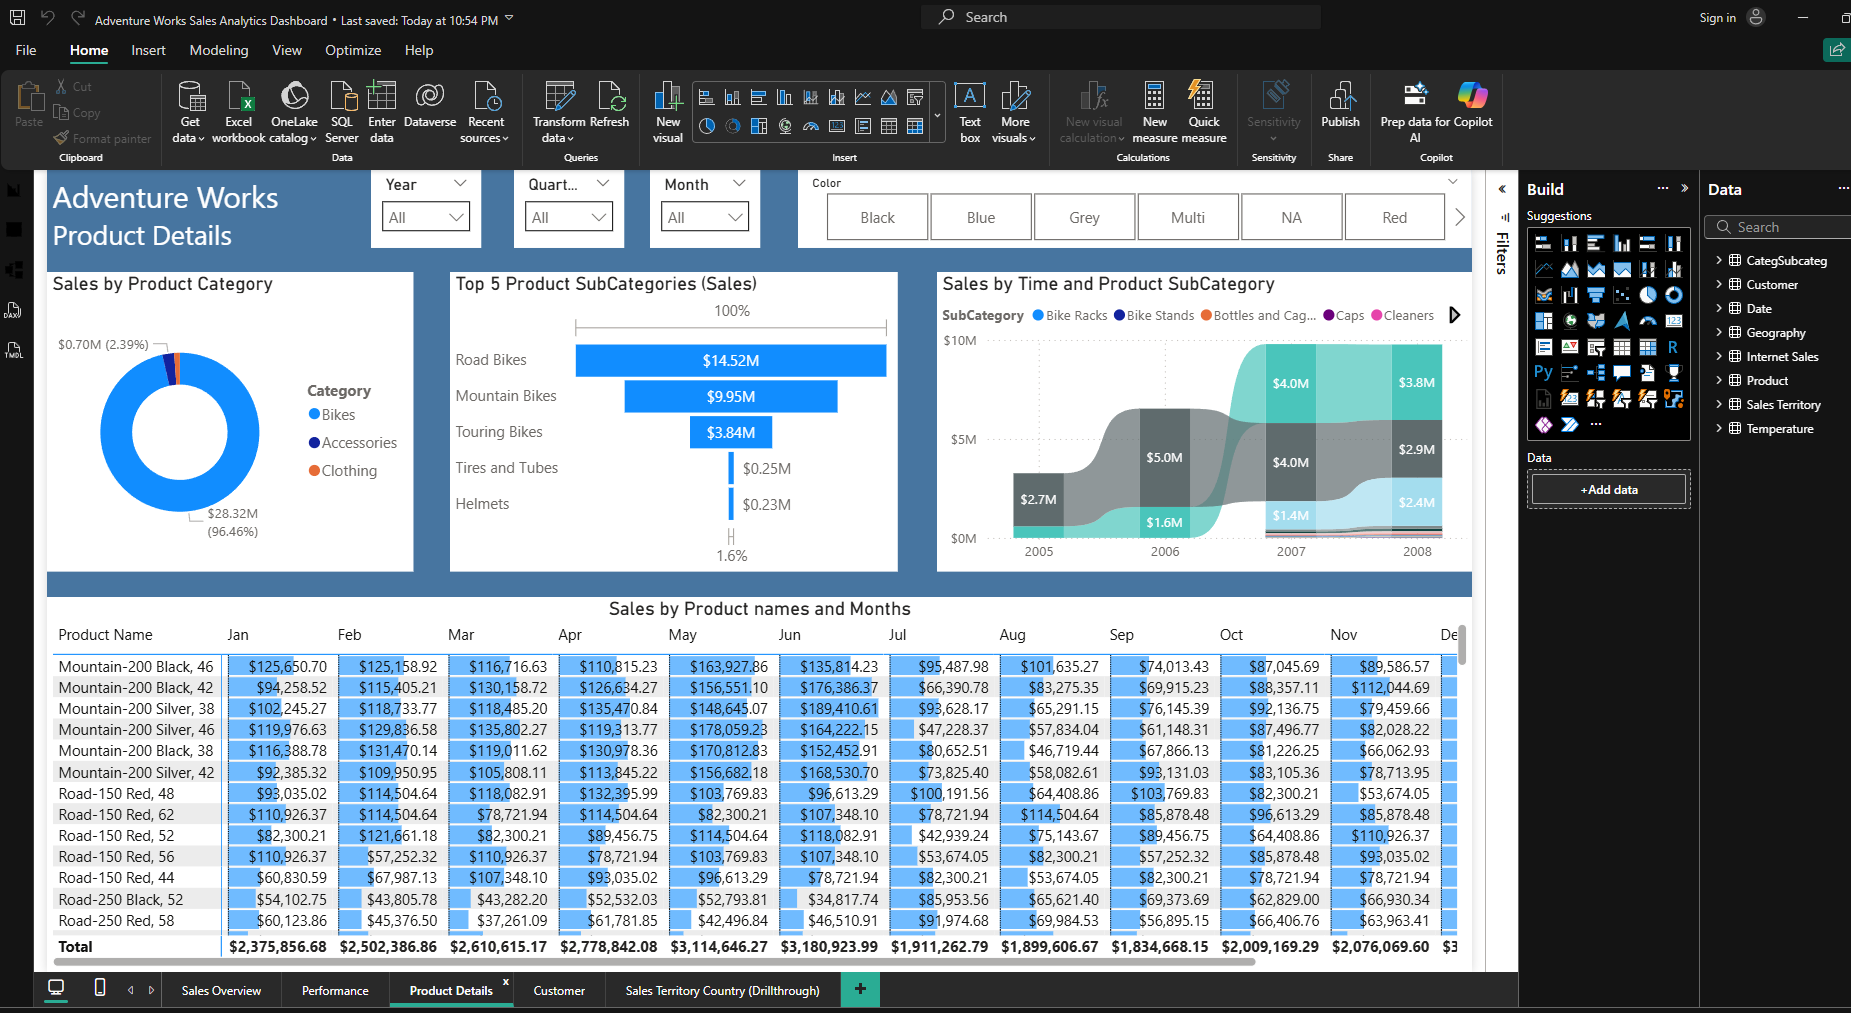

Layout of this report page (visuals, bound fields, positions):
{"tool":"powerbi","page":{"name":"Product Details","canvas":[1280,720],"ordinal":2},"visuals":[{"type":"funnel","title":"Top 5 Product SubCategories (Sales)","fields":{"Y":["Internet Sales.Total Sales"],"Category":["Product.SubCategory"]},"box":[361.5,91.6,401.8,268.7],"z":0},{"type":"donutChart","title":"Sales by Product Category","fields":{"Y":["Internet Sales.Total Sales"],"Category":["CategSubcateg.Category"]},"box":[0,91.6,328.5,268.7],"z":1000},{"type":"pivotTable","title":"Sales by Product names and Months","fields":{"Rows":["Product.Product Name"],"Columns":["Date.Month Name Short"],"Values":["Internet Sales.Total Sales"]},"box":[0,383.5,1280,337.1],"z":2000},{"type":"textbox","box":[0,0,266.3,81.8],"z":3000},{"type":"slicer","fields":{"Values":["Date.Calendar Quarter"]},"box":[419.4,0,99,70.2],"z":4000},{"type":"slicer","fields":{"Values":["Date.Month Name"]},"box":[541.3,0,99.3,70.2],"z":5000},{"type":"slicer","fields":{"Values":["Date.Calendar Year"]},"box":[290.6,0,99.3,70.2],"z":6000},{"type":"ribbonChart","title":"Sales by Time and Product SubCategory","fields":{"Category":["Date.Calendar Hierarchy.Calendar Year","Date.Calendar Hierarchy.Calendar Quarter","Date.Calendar Hierarchy.Month Name"],"Series":["Product.SubCategory"],"Y":["Internet Sales.Total Sales"]},"box":[798.8,91.6,481.2,268.7],"z":7000},{"type":"slicer","fields":{"Values":["Product.Color"]},"box":[674.5,0,605.5,70.2],"z":8000}]}

Visuals, with their boxes on the page's 1280x720 design canvas (x1, y1, x2, y2). These are canvas units, not pixel positions in the 1851x1013 screenshot, which may show the page scaled, cropped or inside an application window:
"Top 5 Product SubCategories (Sales)" funnel: left=362, top=92, right=763, bottom=360
"Sales by Product Category" donutChart: left=0, top=92, right=328, bottom=360
"Sales by Product names and Months" pivotTable: left=0, top=384, right=1280, bottom=721
textbox: left=0, top=0, right=266, bottom=82
slicer - Date.Calendar Quarter: left=419, top=0, right=518, bottom=70
slicer - Date.Month Name: left=541, top=0, right=641, bottom=70
slicer - Date.Calendar Year: left=291, top=0, right=390, bottom=70
"Sales by Time and Product SubCategory" ribbonChart: left=799, top=92, right=1280, bottom=360
slicer - Product.Color: left=674, top=0, right=1280, bottom=70
